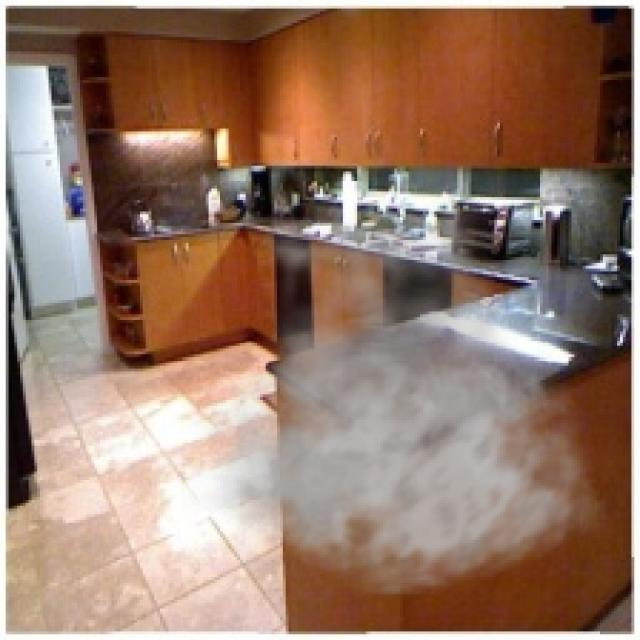smoke: (180, 183, 606, 597)
